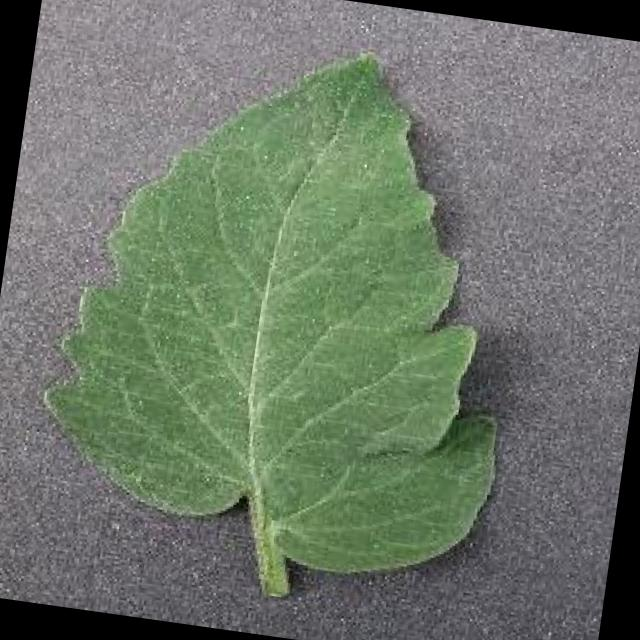Tomato_Healthy: (28, 17, 567, 594)
